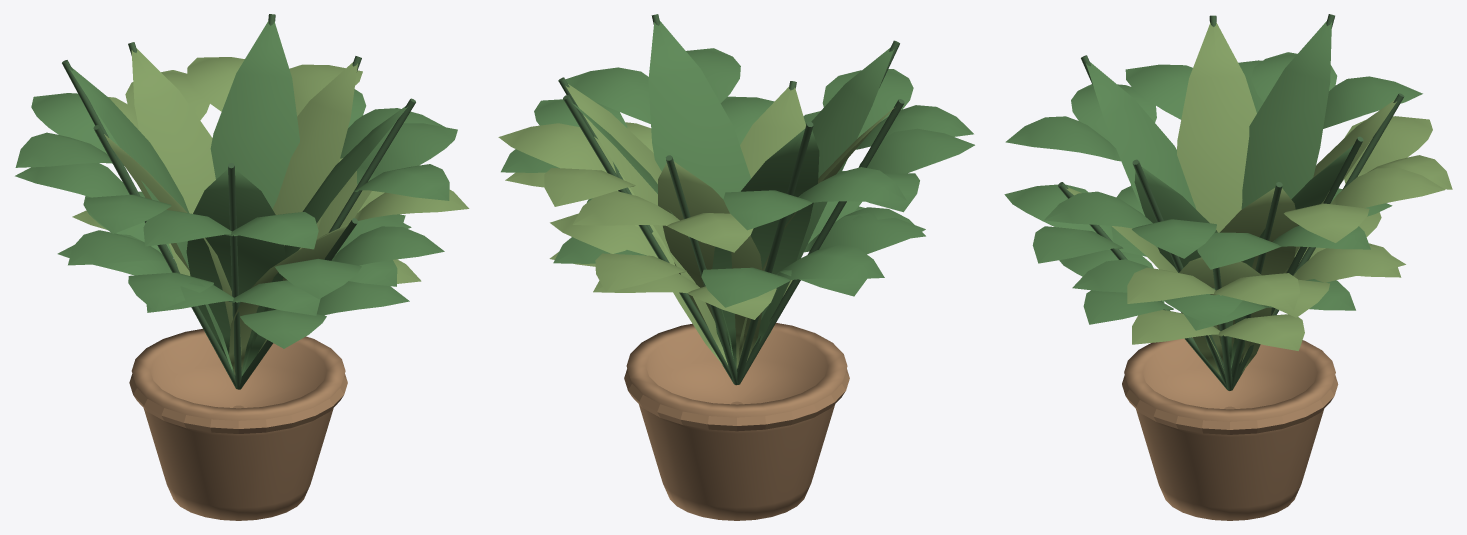
Rendered from SM_HH_Q3_BroadHerb.fbx.
3 views of the same model, side by side, from view 1: azimuth 30°, elevation 25°; view 2: azimuth 150°, elevation 25°; view 3: azimuth 270°, elevation 25° (orthographic). The views are drawn at different scales.
Parts seen in each view (by area): view 1: HH_Q3_BroadHerb; view 2: HH_Q3_BroadHerb; view 3: HH_Q3_BroadHerb.
Boxes of the visible parts, x1,y1,x2,y2 form: HH_Q3_BroadHerb: (15, 14, 469, 520); HH_Q3_BroadHerb: (498, 14, 974, 520); HH_Q3_BroadHerb: (1004, 14, 1452, 520).
Size of the model in its own units: 0.7771 by 0.7793 by 0.8234.
